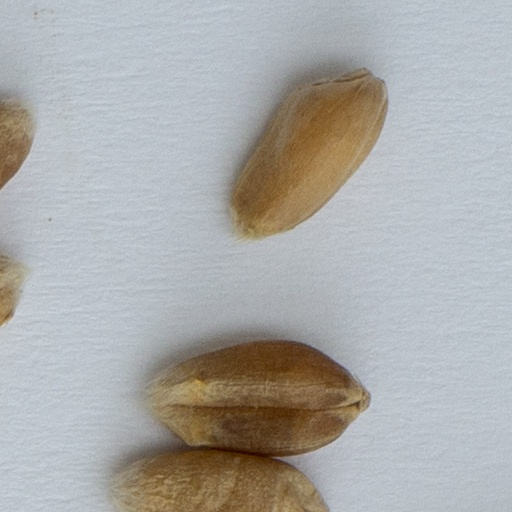Wheat-grain-poly: (226, 63, 391, 242), (138, 338, 373, 456), (111, 448, 333, 511), (0, 98, 34, 193), (0, 248, 35, 328)
